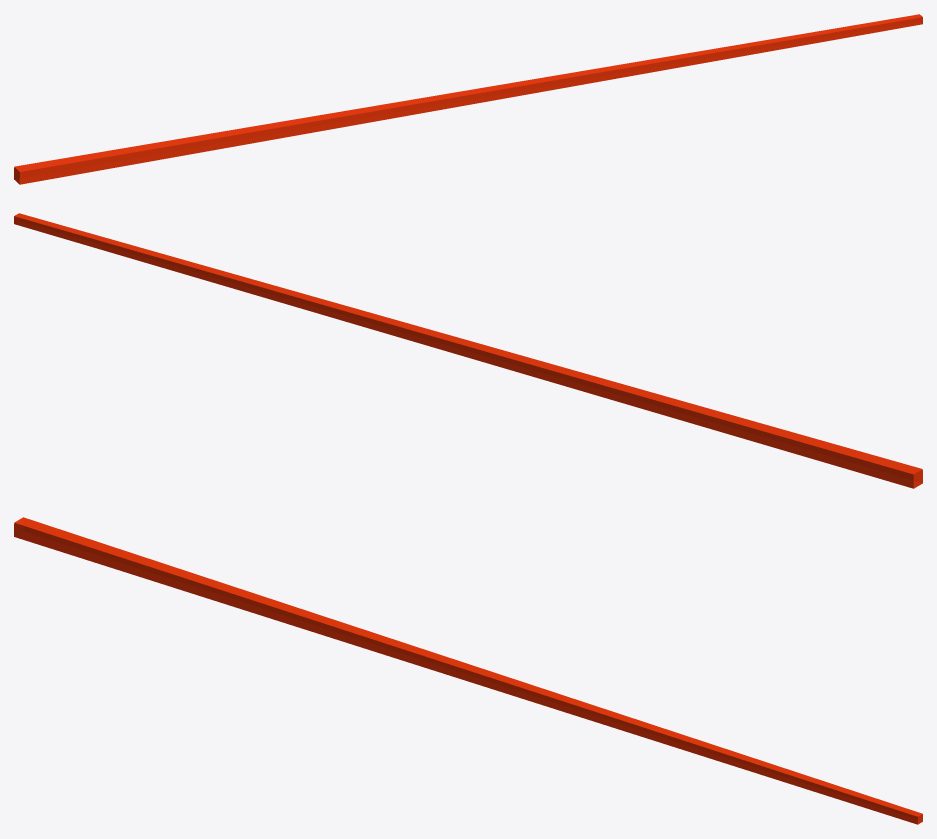
The model's file is Event_421556567_EErechit_34.fbx.
The picture shows the model from 3 angles, top to bottom: view 1: azimuth 30°, elevation 25°; view 2: azimuth 150°, elevation 25°; view 3: azimuth 330°, elevation 25°; orthographic projection. The views are drawn at different scales.
Parts seen in each view (by area): view 1: Model; view 2: Model; view 3: Model.
Boxes of the visible parts, x1,y1,x2,y2 form: Model: [14, 14, 922, 184]; Model: [14, 213, 922, 488]; Model: [14, 517, 922, 824].
Bounding box in the file's own units: 9.2 × 0.2476 × 1.06.
